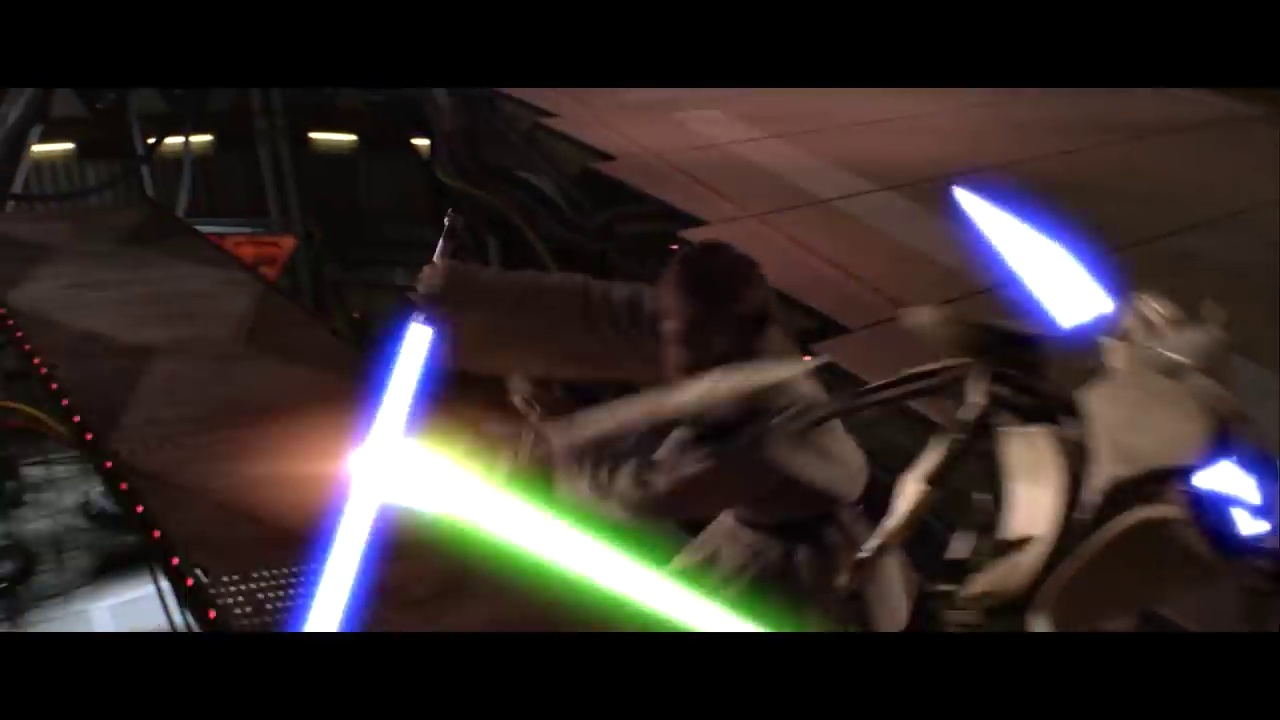lightsaber: (371, 411, 795, 638), (289, 226, 463, 631)
